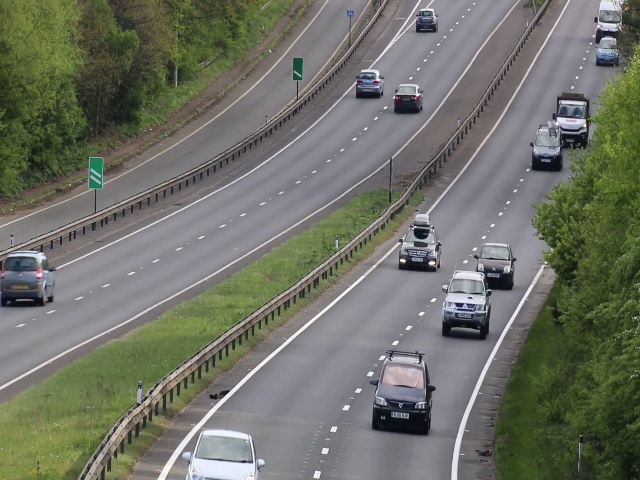car: (371, 354, 434, 435), (183, 428, 259, 480), (1, 253, 59, 309), (443, 276, 490, 340), (473, 240, 518, 288), (397, 225, 440, 272), (556, 88, 590, 146), (532, 126, 564, 167), (353, 67, 386, 99), (393, 82, 424, 113), (413, 6, 440, 34)
